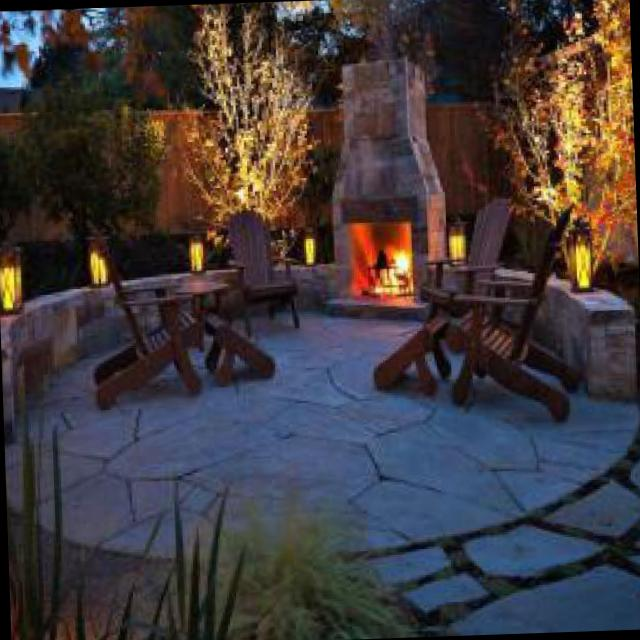fire: (368, 237, 419, 300)
